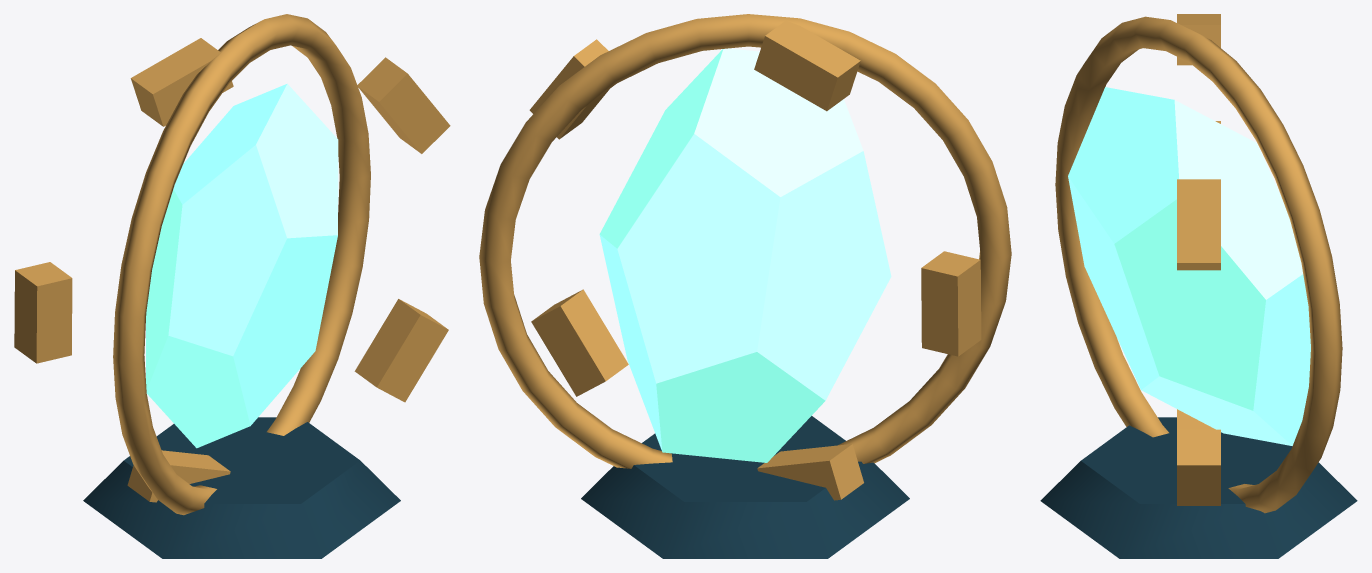
The model's file is relic-03.glb.
3 views of the same model, side by side, from view 1: azimuth 30°, elevation 25°; view 2: azimuth 150°, elevation 25°; view 3: azimuth 270°, elevation 25° (orthographic). The views are drawn at different scales.
Parts seen in each view (by area): view 1: aged-brass-merged, aether-glass-merged, deep-basalt-merged; view 2: aether-glass-merged, aged-brass-merged, deep-basalt-merged; view 3: aether-glass-merged, aged-brass-merged, deep-basalt-merged.
Boxes of the visible parts, x1=… form: aged-brass-merged: x1=14, y1=14, x2=450, y2=515; aether-glass-merged: x1=146, y1=83, x2=338, y2=448; deep-basalt-merged: x1=83, y1=417, x2=400, y2=558; aether-glass-merged: x1=599, y1=48, x2=891, y2=462; aged-brass-merged: x1=479, y1=14, x2=1011, y2=500; deep-basalt-merged: x1=581, y1=416, x2=909, y2=558; aether-glass-merged: x1=1068, y1=87, x2=1310, y2=445; aged-brass-merged: x1=1055, y1=14, x2=1342, y2=513; deep-basalt-merged: x1=1040, y1=417, x2=1357, y2=558.
Size of the model in its own units: 1.29 by 1.39 by 0.86.
